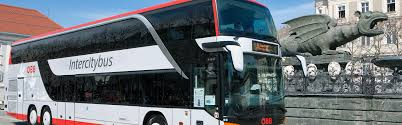bus: (4, 1, 289, 125)
